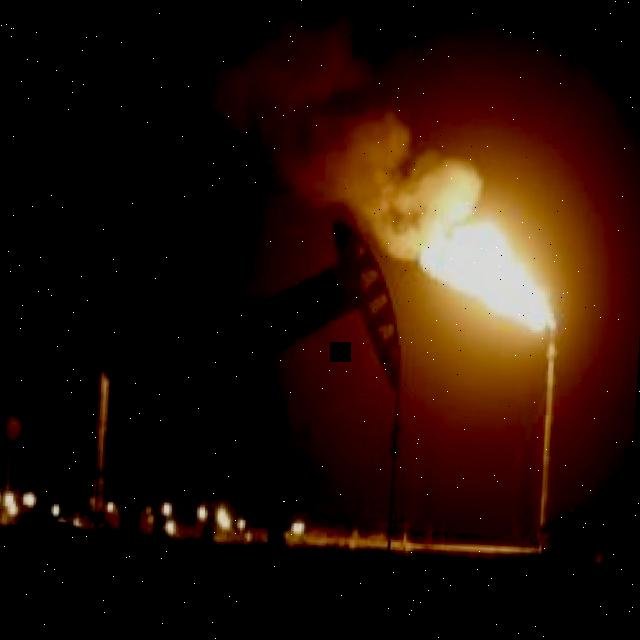fire: (419, 222, 553, 330)
smoke: (114, 1, 481, 261)
